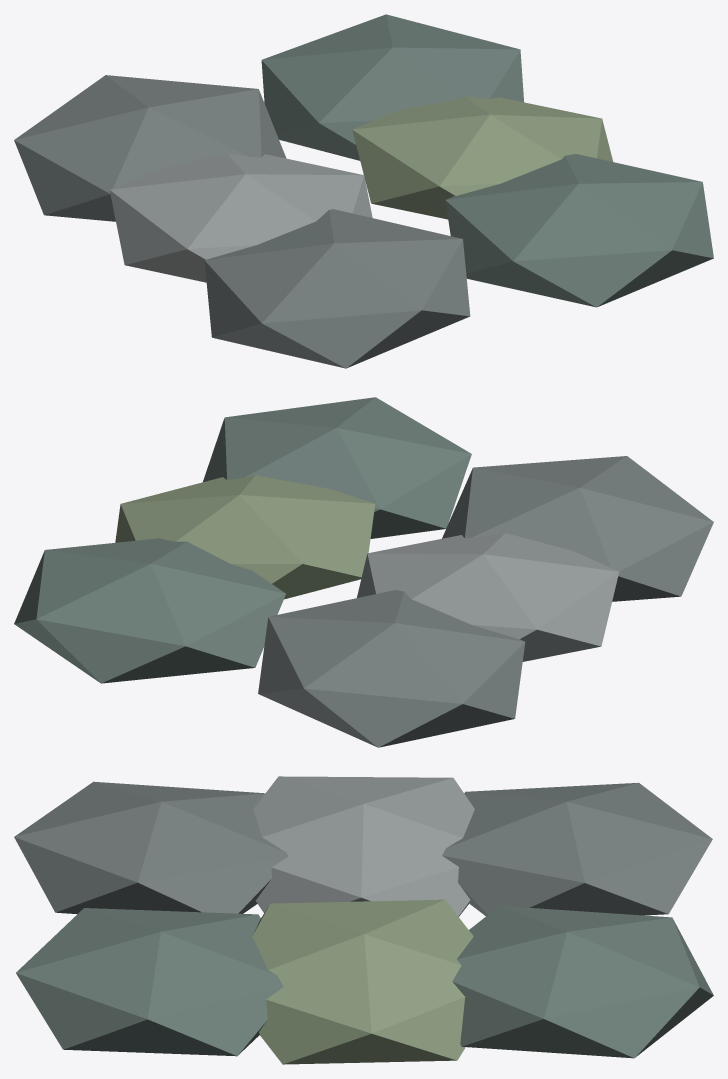
The model's file is ceiling_4x4.glb.
3 views of the same model, one above another, from view 1: azimuth 30°, elevation 25°; view 2: azimuth 150°, elevation 25°; view 3: azimuth 270°, elevation 25° (orthographic). The views are drawn at different scales.
Parts seen in each view (by area): view 1: cave_ceiling_01, cave_ceiling_02, cave_ceiling_05, cave_ceiling_06, cave_ceiling_03, cave_ceiling_04; view 2: cave_ceiling_05, cave_ceiling_06, cave_ceiling_01, cave_ceiling_02, cave_ceiling_03, cave_ceiling_04; view 3: cave_ceiling_04, cave_ceiling_06, cave_ceiling_02, cave_ceiling_01, cave_ceiling_05, cave_ceiling_03.
Part boxes in pixels (x1,y1,x2,y2): cave_ceiling_01: [204, 209, 470, 368]; cave_ceiling_02: [445, 154, 713, 307]; cave_ceiling_05: [14, 75, 286, 221]; cave_ceiling_06: [261, 14, 523, 160]; cave_ceiling_03: [109, 153, 372, 282]; cave_ceiling_04: [352, 96, 613, 219]; cave_ceiling_05: [258, 590, 525, 747]; cave_ceiling_06: [14, 538, 285, 683]; cave_ceiling_01: [442, 456, 713, 601]; cave_ceiling_02: [203, 397, 471, 538]; cave_ceiling_03: [357, 533, 618, 661]; cave_ceiling_04: [115, 475, 375, 599]; cave_ceiling_04: [252, 899, 473, 1064]; cave_ceiling_06: [452, 906, 713, 1058]; cave_ceiling_02: [16, 908, 283, 1056]; cave_ceiling_01: [14, 781, 288, 914]; cave_ceiling_05: [442, 782, 712, 915]; cave_ceiling_03: [253, 776, 474, 916].
Bounding box in the file's own units: 3.96 × 0.7198 × 4.58.
